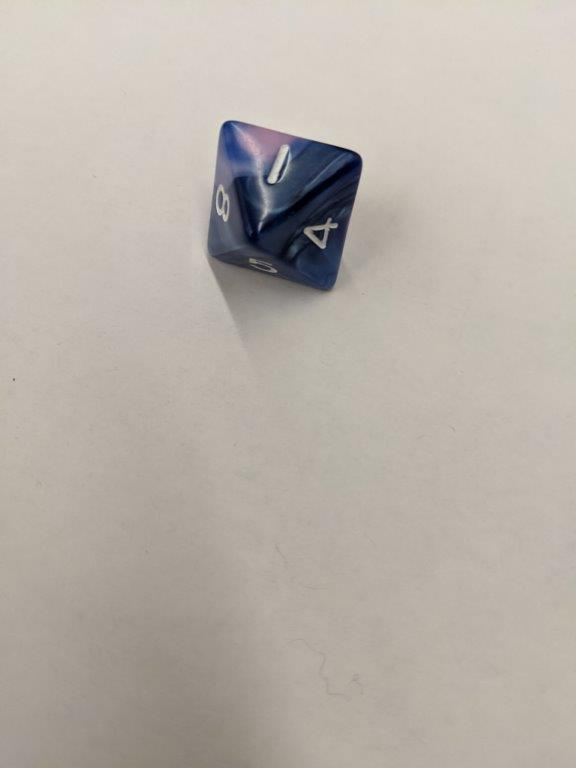d8-1: (206, 117, 362, 293)
